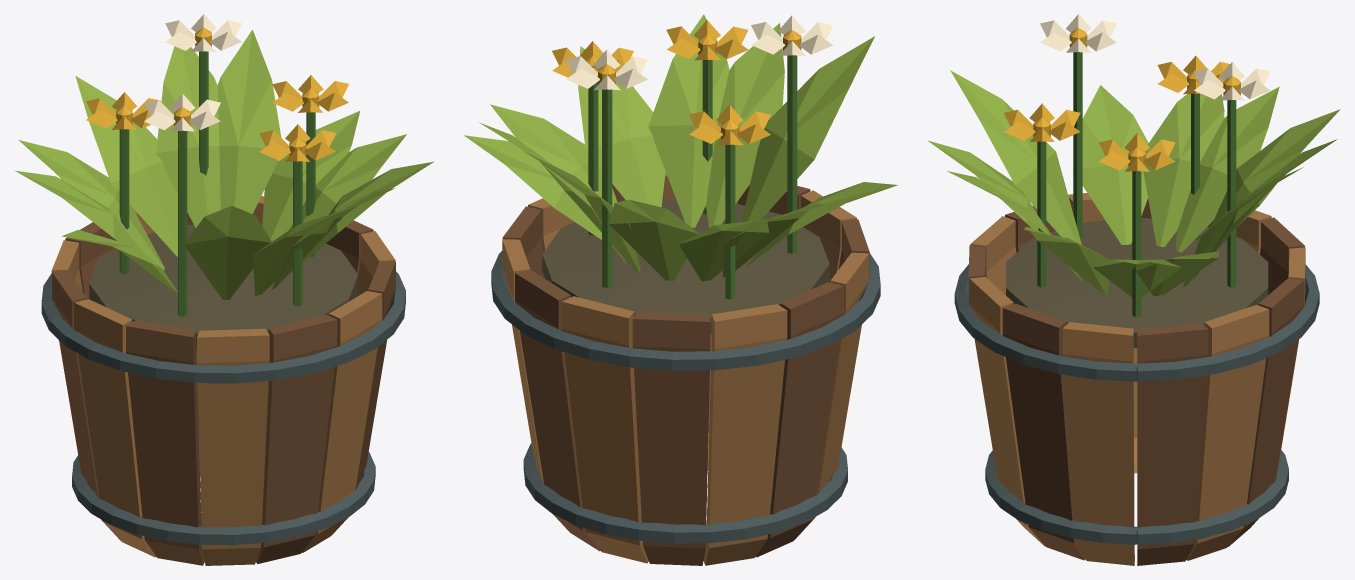
Rendered from HealingPlanter.glb.
The picture shows the model from 3 angles, left to right: view 1: azimuth 30°, elevation 25°; view 2: azimuth 150°, elevation 25°; view 3: azimuth 270°, elevation 25°; orthographic projection. The views are drawn at different scales.
Parts seen in each view (by area): view 1: HealingPlanter; view 2: HealingPlanter; view 3: HealingPlanter.
Boxes of the visible parts, box(x1,y1,x2,y2) form: HealingPlanter: box(15, 14, 433, 565); HealingPlanter: box(464, 14, 897, 565); HealingPlanter: box(928, 14, 1340, 565).
Size of the model in its own units: 0.77 by 0.91 by 0.75.
